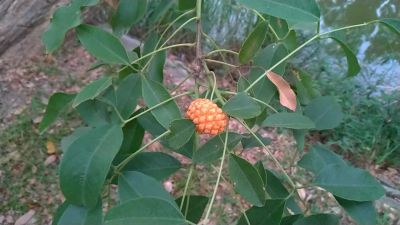eggs: (190, 96, 229, 135)
